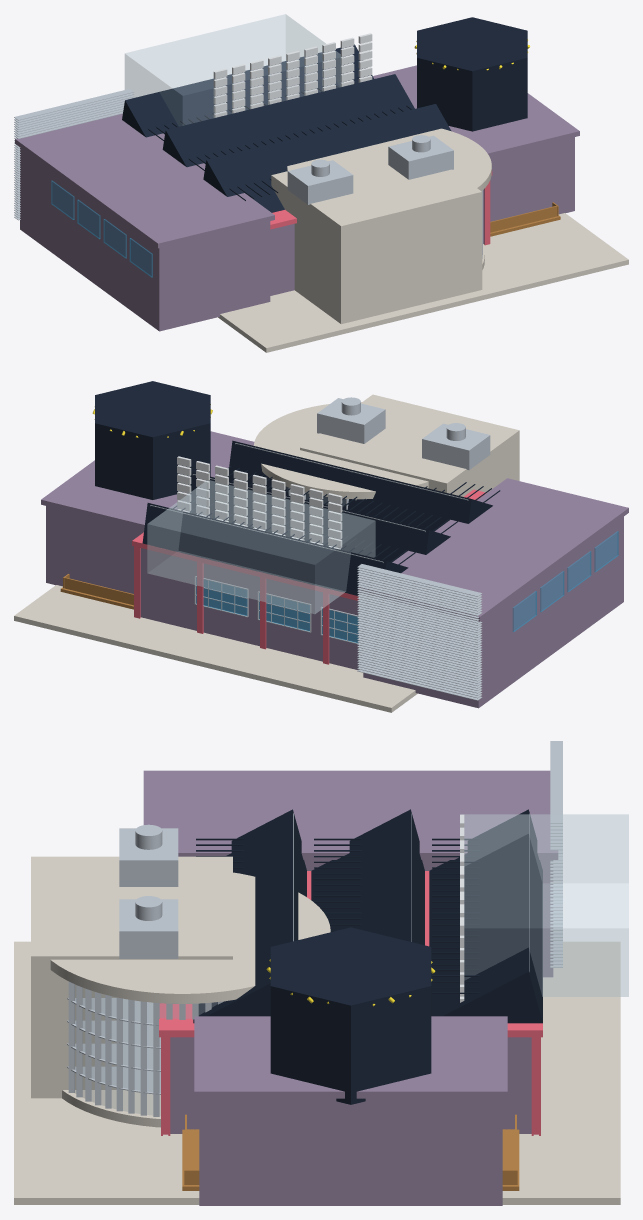
The model's file is hq_04_design_l5.glb.
3 views of the same model, one above another, from view 1: azimuth 30°, elevation 25°; view 2: azimuth 150°, elevation 25°; view 3: azimuth 270°, elevation 25° (orthographic). The views are drawn at different scales.
Parts seen in each view (by area): view 1: GEO_FullScale_1_to_1_Clay_Hall, GEO_Design_Review_Theater, GEO_Sawtooth_Roof_Slopes, GEO_Plinth_Foundation, GEO_ClassA_Surfacing_Curtain_Wall, GEO_VR_Immersive_Cave_Shell, GEO_CAS_Digital_Styling_Wing, GEO_CMF_Material_Sample_Wall, GEO_Theater_Rooftop_HVAC, GEO_Architectural_Sunshade_Louvers, GEO_Reveal_Rotunda_Structure, GEO_Clay_Hall_West_Clerestory (+3 smaller); view 2: GEO_FullScale_1_to_1_Clay_Hall, GEO_Sawtooth_Roof_Slopes, GEO_ClassA_Surfacing_Curtain_Wall, GEO_Plinth_Foundation, GEO_Architectural_Sunshade_Louvers, GEO_Design_Studio_Brick_Hall, GEO_VR_Immersive_Cave_Shell, GEO_CAS_Digital_Styling_Wing, GEO_Design_Review_Theater, GEO_CMF_Material_Sample_Wall, GEO_Theater_Rooftop_HVAC, GEO_Reveal_Rotunda_Structure (+6 smaller); view 3: GEO_CAS_Digital_Styling_Wing, GEO_Plinth_Foundation, GEO_Sawtooth_Roof_Slopes, GEO_FullScale_1_to_1_Clay_Hall, GEO_ClassA_Surfacing_Curtain_Wall, GEO_VR_Immersive_Cave_Shell, GEO_Design_Review_Theater, GEO_Reveal_Rotunda_Structure, GEO_Reveal_Rotunda_Mullions, GEO_Theater_Rooftop_HVAC, GEO_Design_Studio_Brick_Hall, GEO_Studio_Structural_IBeams (+4 smaller).
Boxes of the visible parts, x1,y1,x2,y2 form: GEO_FullScale_1_to_1_Clay_Hall: (15, 113, 274, 331); GEO_Design_Review_Theater: (271, 147, 482, 324); GEO_Sawtooth_Roof_Slopes: (122, 44, 451, 212); GEO_Plinth_Foundation: (218, 213, 628, 352); GEO_ClassA_Surfacing_Curtain_Wall: (124, 14, 343, 126); GEO_VR_Immersive_Cave_Shell: (417, 17, 527, 131); GEO_CAS_Digital_Styling_Wing: (373, 65, 579, 221); GEO_CMF_Material_Sample_Wall: (213, 33, 372, 117); GEO_Theater_Rooftop_HVAC: (287, 135, 453, 204); GEO_Architectural_Sunshade_Louvers: (14, 89, 133, 220); GEO_Reveal_Rotunda_Structure: (287, 128, 491, 269); GEO_Clay_Hall_West_Clerestory: (51, 180, 152, 277); GEO_FullScale_1_to_1_Clay_Hall: (358, 478, 628, 708); GEO_Sawtooth_Roof_Slopes: (142, 440, 500, 595); GEO_ClassA_Surfacing_Curtain_Wall: (147, 480, 375, 613); GEO_Plinth_Foundation: (14, 585, 417, 712); GEO_Architectural_Sunshade_Louvers: (357, 564, 482, 700); GEO_Design_Studio_Brick_Hall: (140, 548, 358, 669); GEO_VR_Immersive_Cave_Shell: (95, 381, 210, 499); GEO_CAS_Digital_Styling_Wing: (41, 431, 254, 593); GEO_Design_Review_Theater: (300, 394, 519, 496); GEO_CMF_Material_Sample_Wall: (177, 456, 342, 549); GEO_Theater_Rooftop_HVAC: (317, 397, 490, 469); GEO_Reveal_Rotunda_Structure: (253, 402, 428, 499); GEO_CAS_Digital_Styling_Wing: (194, 1016, 507, 1205); GEO_Plinth_Foundation: (14, 941, 620, 1204); GEO_Sawtooth_Roof_Slopes: (193, 809, 542, 1023); GEO_FullScale_1_to_1_Clay_Hall: (143, 770, 558, 977); GEO_ClassA_Surfacing_Curtain_Wall: (461, 814, 628, 996); GEO_VR_Immersive_Cave_Shell: (270, 927, 431, 1104); GEO_Design_Review_Theater: (31, 856, 232, 1098); GEO_Reveal_Rotunda_Structure: (50, 872, 330, 1127); GEO_Reveal_Rotunda_Mullions: (67, 981, 223, 1116); GEO_Theater_Rooftop_HVAC: (119, 824, 178, 958); GEO_Design_Studio_Brick_Hall: (170, 1037, 531, 1133); GEO_Studio_Structural_IBeams: (159, 871, 542, 1135).
Size of what is drawn, in the model's own units: 43.8 by 13.75 by 36.5.
